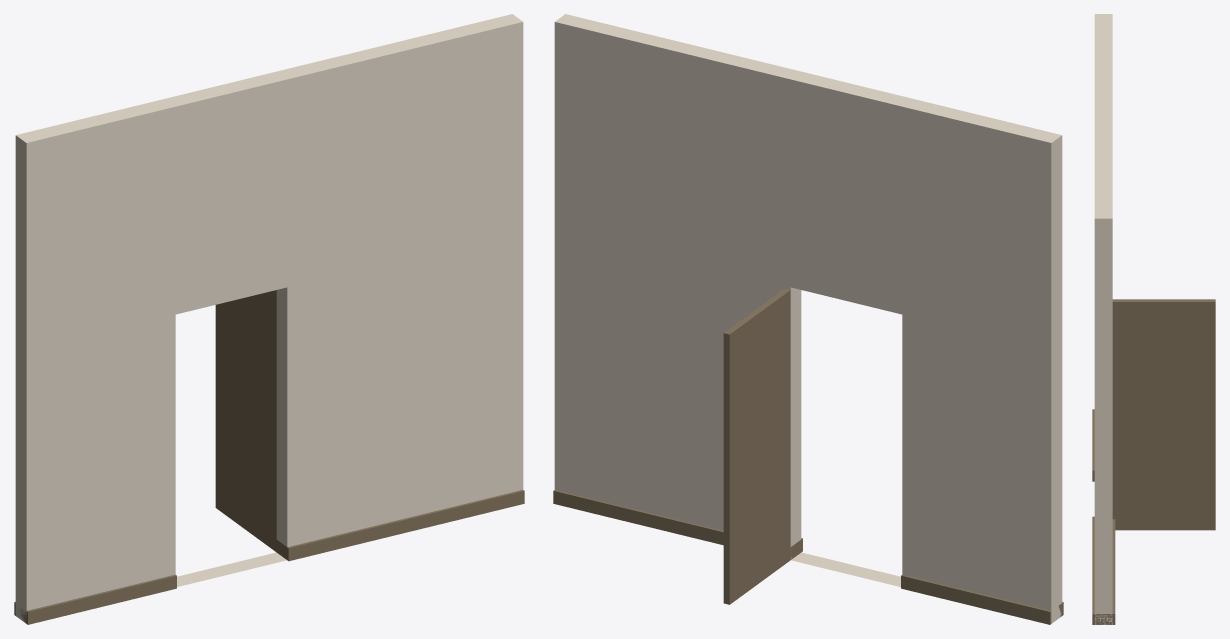
Rendered from city_partition_door.glb.
3 views of the same model, side by side, from view 1: azimuth 30°, elevation 25°; view 2: azimuth 150°, elevation 25°; view 3: azimuth 270°, elevation 25° (orthographic). The views are drawn at different scales.
Parts seen in each view (by area): view 1: CityPartitionDoor_Wall, CityPartitionDoor_Leaf, CityPartitionDoor_Skirting2, CityPartitionDoor_Skirting; view 2: CityPartitionDoor_Wall, CityPartitionDoor_Leaf, CityPartitionDoor_Skirting2, CityPartitionDoor_Skirting; view 3: CityPartitionDoor_Leaf, CityPartitionDoor_Wall, CityPartitionDoor_Skirting2, CityPartitionDoor_Skirting.
Boxes of the visible parts, box(x1,y1,x2,y2) form: CityPartitionDoor_Wall: box(15, 14, 523, 622); CityPartitionDoor_Leaf: box(215, 290, 276, 550); CityPartitionDoor_Skirting2: box(275, 490, 524, 561); CityPartitionDoor_Skirting: box(14, 574, 176, 624); CityPartitionDoor_Wall: box(554, 14, 1062, 623); CityPartitionDoor_Leaf: box(723, 288, 790, 604); CityPartitionDoor_Skirting2: box(553, 490, 802, 559); CityPartitionDoor_Skirting: box(901, 574, 1063, 624); CityPartitionDoor_Leaf: box(1112, 299, 1215, 530); CityPartitionDoor_Wall: box(1094, 14, 1112, 624); CityPartitionDoor_Skirting2: box(1092, 516, 1115, 624); CityPartitionDoor_Skirting: box(1092, 409, 1094, 481).
Bounding box in the file's own units: 4 × 3.7 × 1.02.
